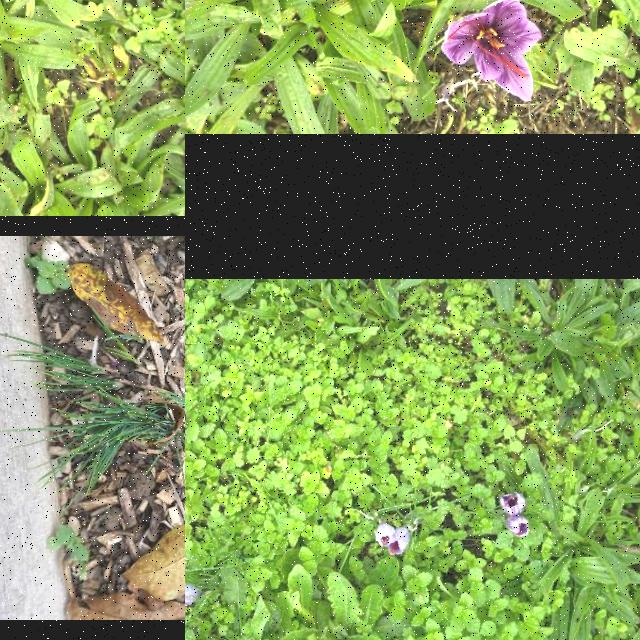flower: (441, 0, 543, 103), (387, 530, 411, 556), (500, 492, 524, 516), (375, 526, 397, 548), (506, 517, 530, 537), (185, 584, 200, 608)
